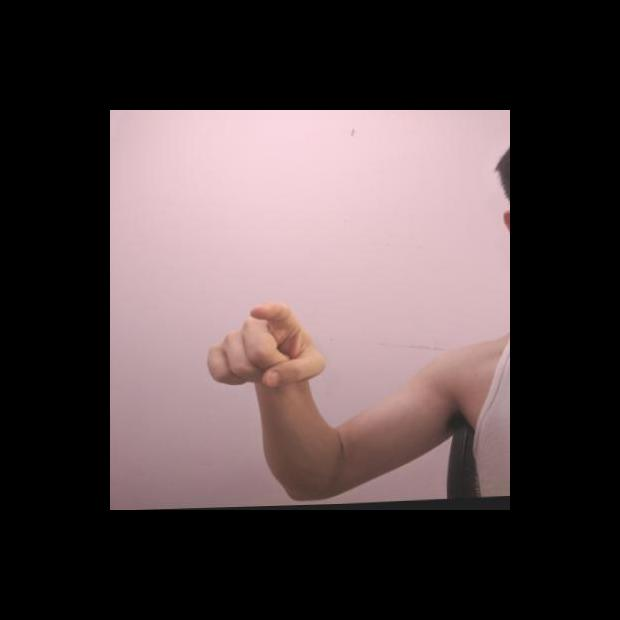Y: (202, 299, 332, 393)
